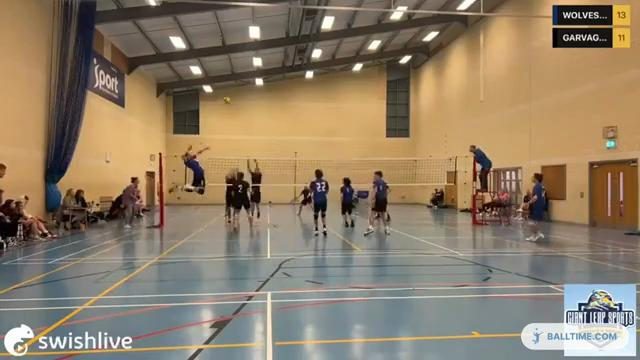attacco: (170, 141, 212, 196)
